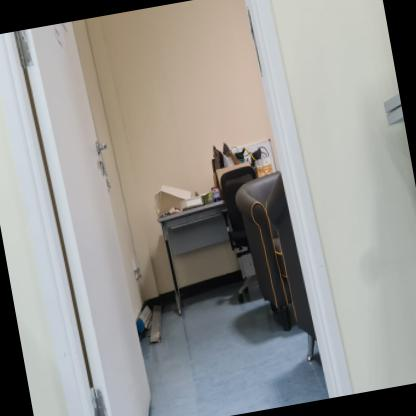open: (41, 0, 371, 415)
